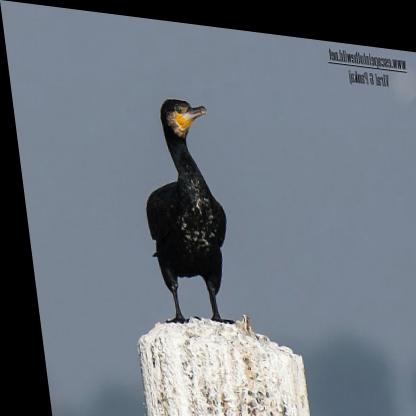Burung: (125, 86, 229, 340)
